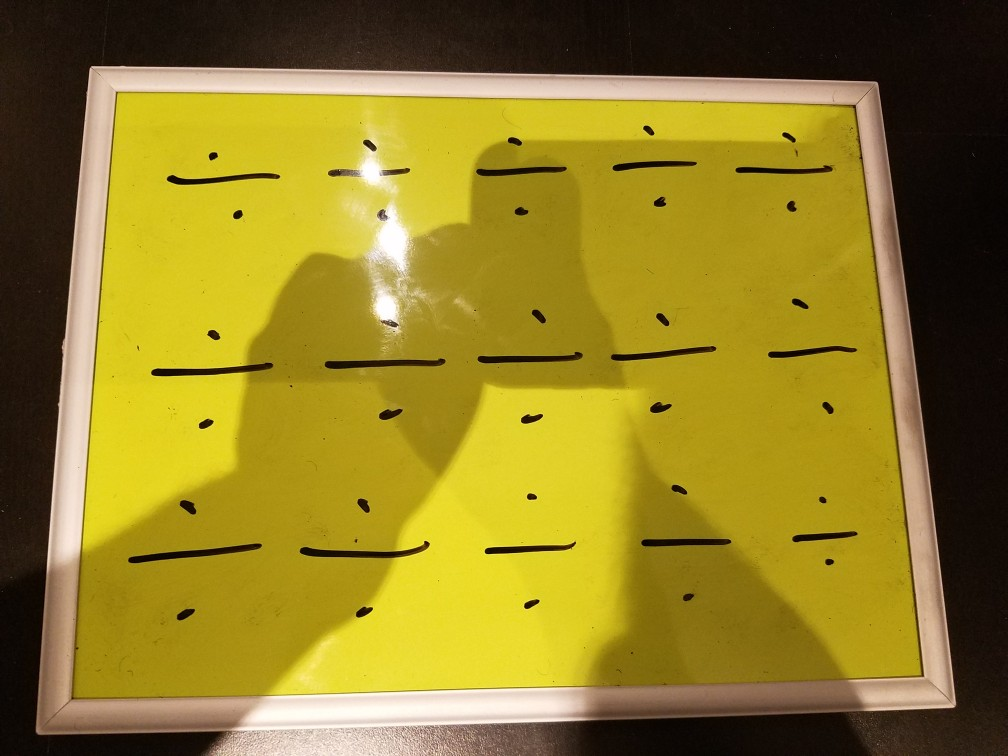div: (299, 469, 441, 648), (118, 468, 270, 629), (457, 474, 593, 642), (622, 460, 750, 624), (746, 277, 869, 426), (456, 288, 585, 430), (139, 299, 276, 430), (601, 289, 726, 426), (139, 122, 293, 229), (718, 112, 851, 234), (322, 294, 445, 420), (309, 116, 427, 228), (588, 110, 709, 218), (771, 471, 873, 581), (466, 122, 571, 222)
